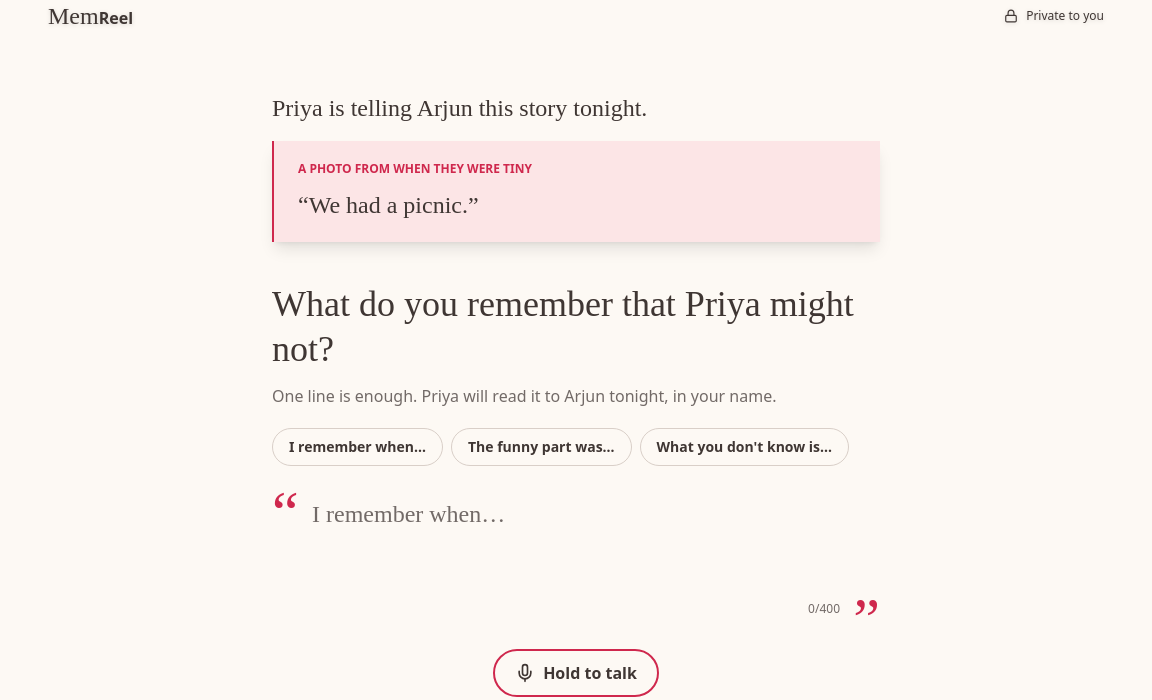
Remember When mutation recovery › allows a family member to retry after a rejected reply save
Later steps or results of the test are not shown.
Type "Nani brought the cake." into the text box named "What you remember" at x=576, y=548, box [312, 498, 840, 597]
(page scrolled)
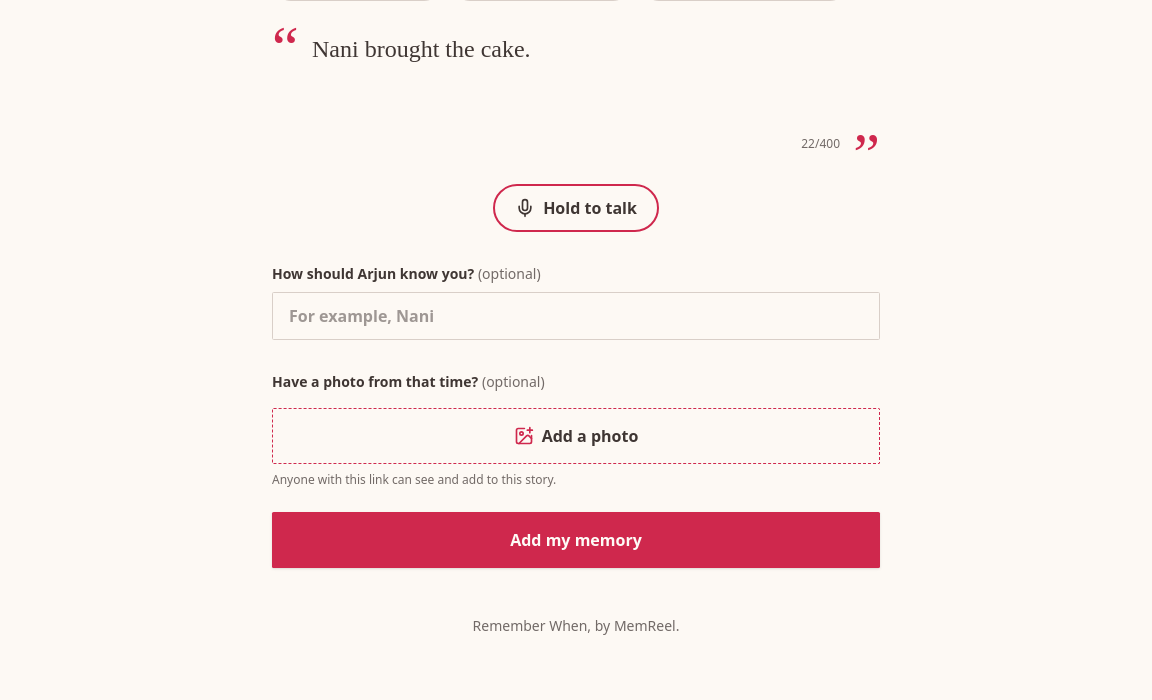
Click the button "Add my memory" at x=576, y=540, box [272, 512, 880, 568]
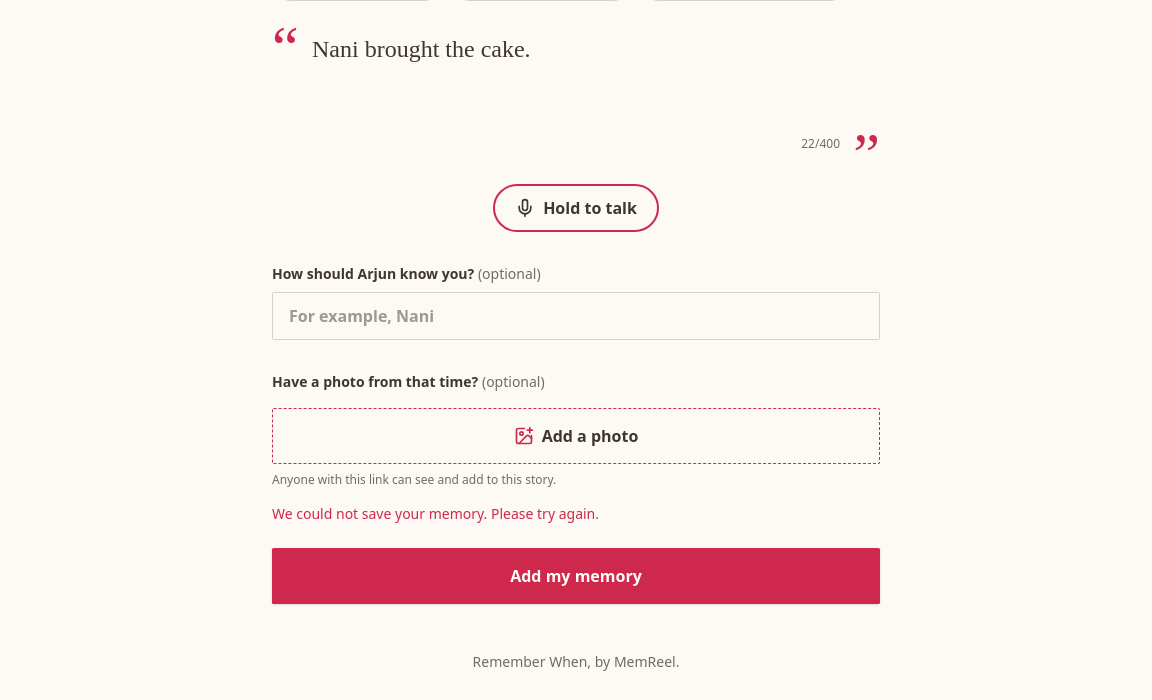
Expected: the text "We could not save your memory. Please try again." is shown, [272, 504, 599, 523]
